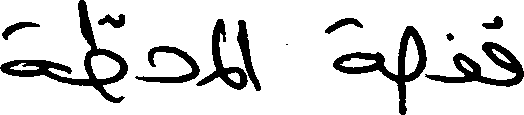ا: (233, 18, 260, 91)
ة: (0, 0, 73, 87), (317, 14, 382, 77)
ح: (132, 35, 199, 87)
ط: (73, 0, 126, 102)
ف: (385, 26, 431, 112), (432, 32, 482, 84)
ق: (480, 15, 522, 91)
ل: (208, 19, 235, 73)
م: (209, 64, 244, 100)
